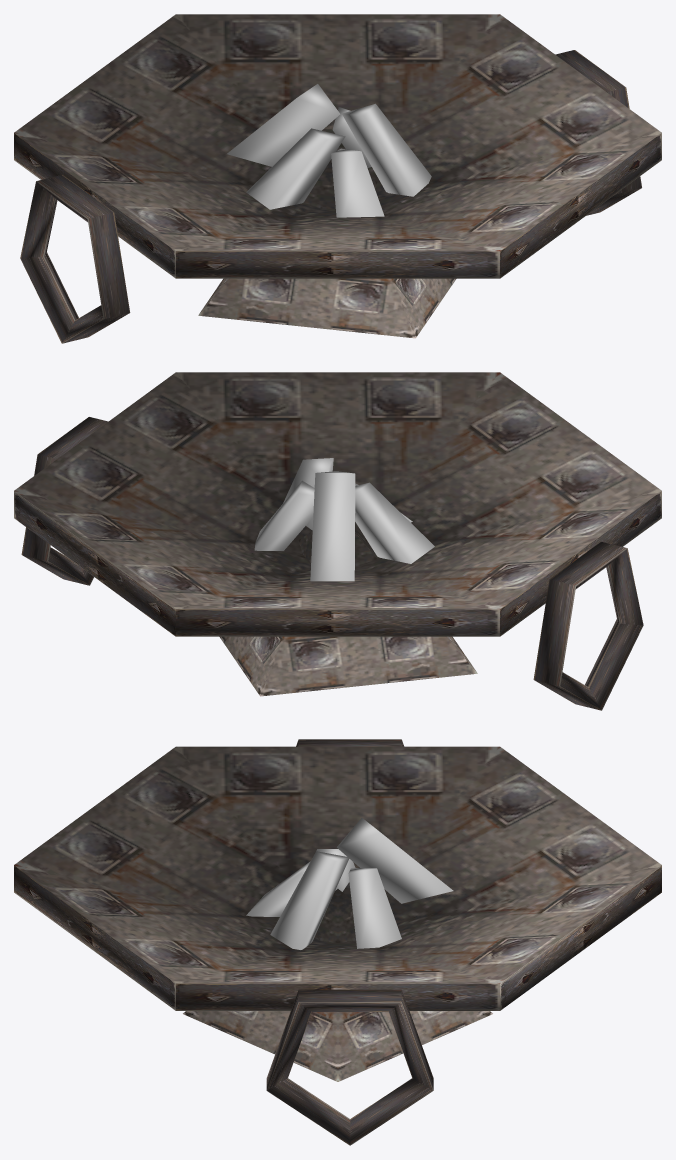
File: stormwindbrazier01.obj
3 renders of one model, top to bottom at view 1: azimuth 30°, elevation 25°; view 2: azimuth 150°, elevation 25°; view 3: azimuth 270°, elevation 25°, orthographic.
Parts seen in each view (by area): view 1: Geoset0, Geoset1; view 2: Geoset0, Geoset1; view 3: Geoset0, Geoset1.
Part boxes in pixels (bbox=[...]): Geoset0: bbox=[14, 14, 661, 343]; Geoset1: bbox=[227, 84, 431, 217]; Geoset0: bbox=[14, 372, 661, 710]; Geoset1: bbox=[254, 458, 434, 581]; Geoset0: bbox=[14, 739, 661, 1145]; Geoset1: bbox=[246, 818, 453, 949].
Size of the model in its own units: 2.22 by 0.7213 by 2.32.
